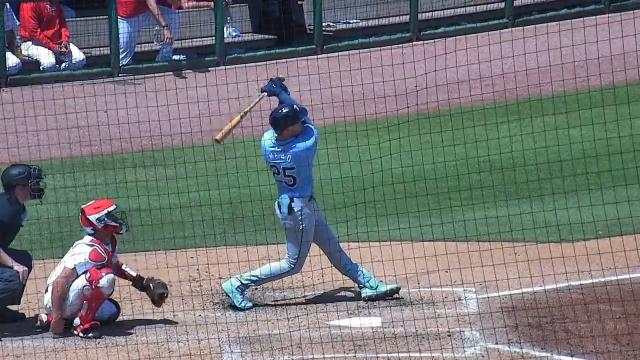ball: (402, 162, 418, 178)
bat: (213, 92, 267, 144)
